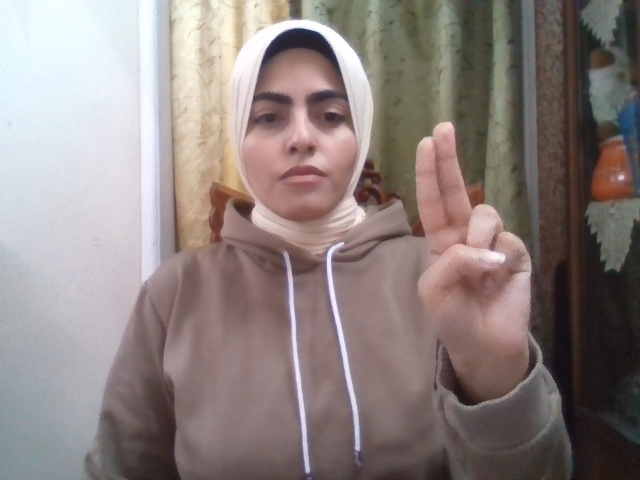U: (415, 121, 532, 360)
